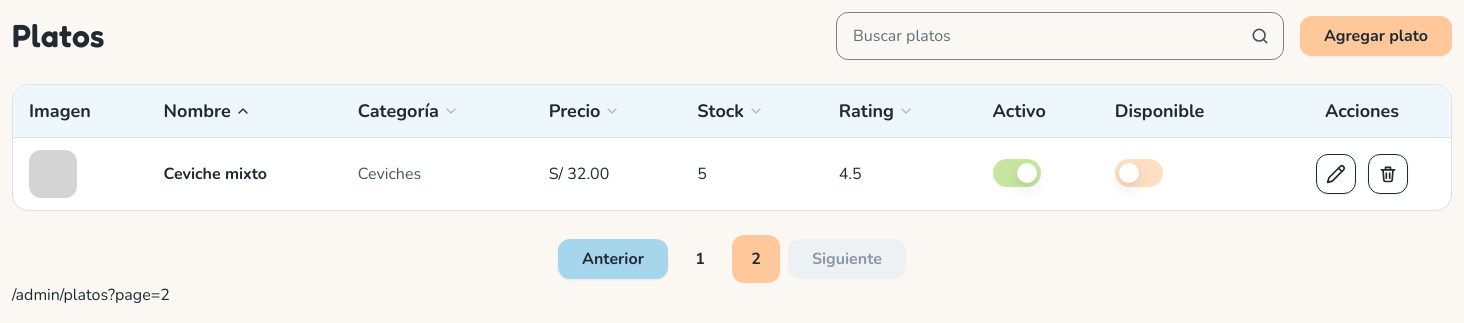
Test: AdminProductsPage › un clic ordena ascendente, otro lo invierte, y cambiar de columna vuelve a ascendente desde la página 1
Click the button "Precio" at (585, 111), box [549,97,620,125]
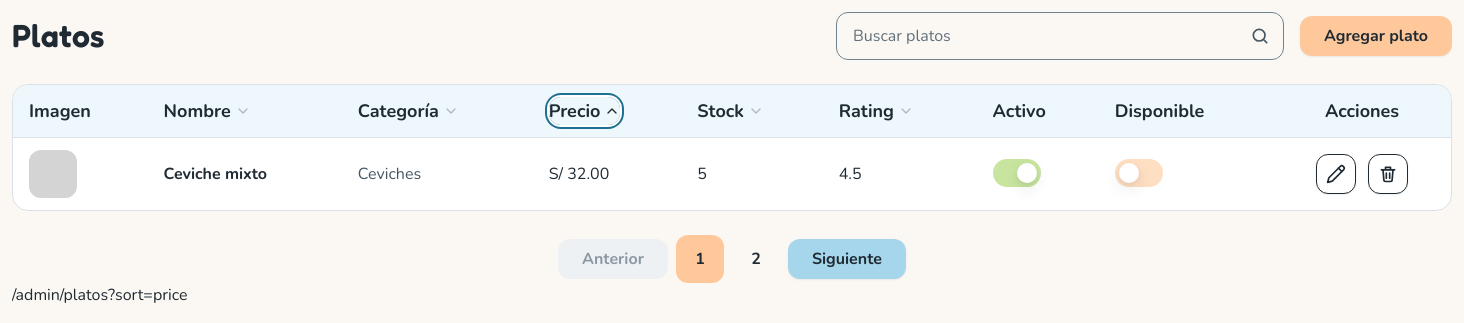
Expected: the text with test id "location" reads "/admin/platos?sort=price", [12,284,188,306]
Click the button "Precio" at (585, 111), box [549,97,620,125]
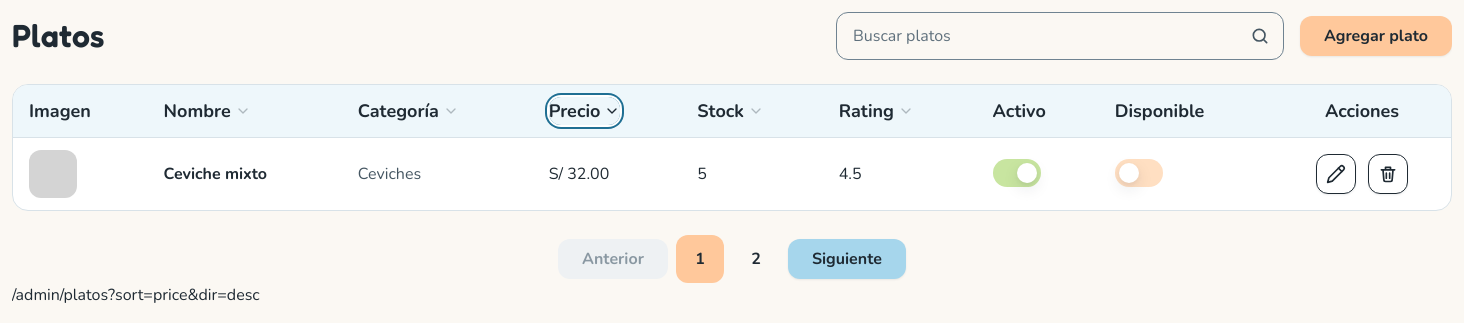
Expected: the text with test id "location" reads "/admin/platos?sort=price&dir=desc", [12,284,260,306]
Click the button "Rating" at (876, 111), box [839,97,914,125]
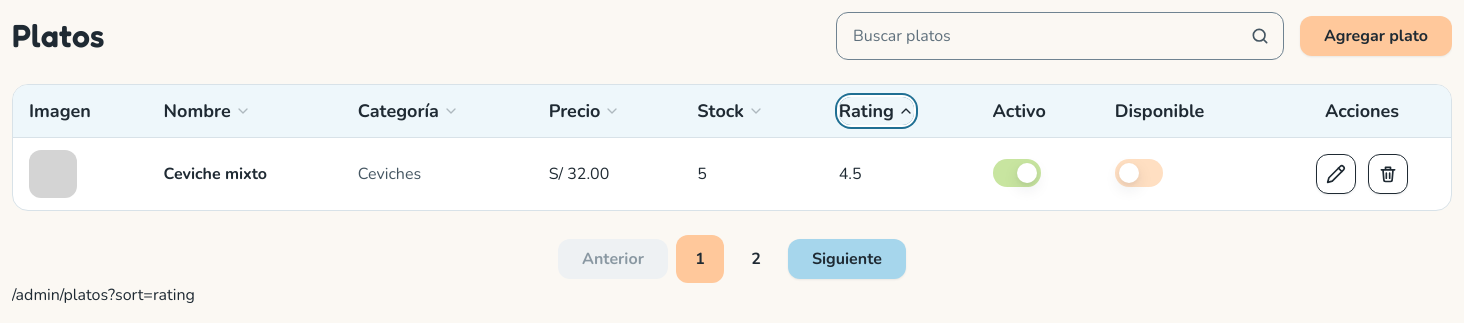
Expected: the text with test id "location" reads "/admin/platos?sort=rating", [12,284,195,306]
